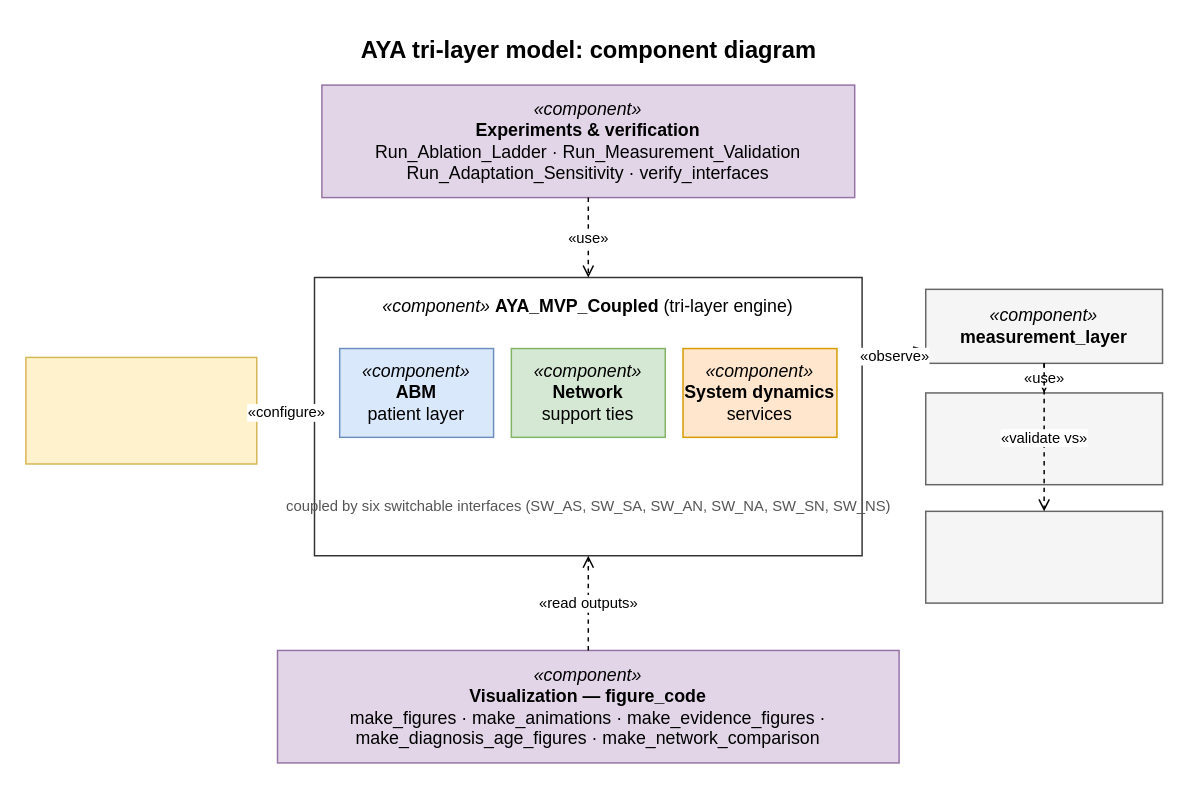
Some shapes in this 1188 by 789 pixel diagram are drawn without their labels. Here are the shapes that lost their labels. From the top down, the box of each, then its label:
(24, 356, 257, 464): «component» coupling_switches C0–C5 cells, 6 switches
(924, 391, 1163, 485): «component» instrument_specs QLQ-C30, SF-12, PROMIS
(924, 510, 1163, 603): «component» empirical_targets held-out bands
